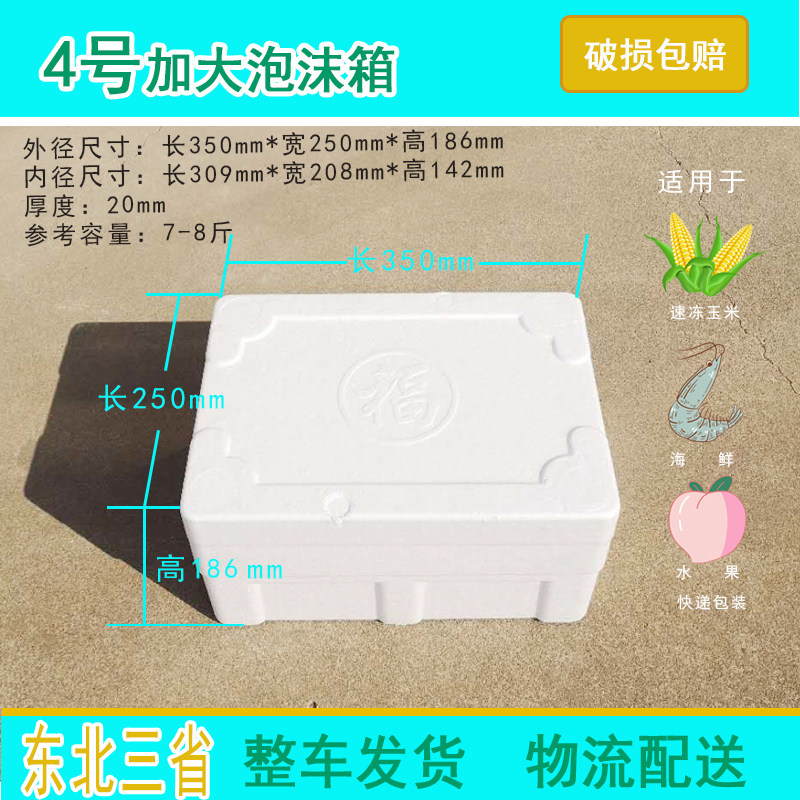泡沫箱: (181, 293, 619, 623)
